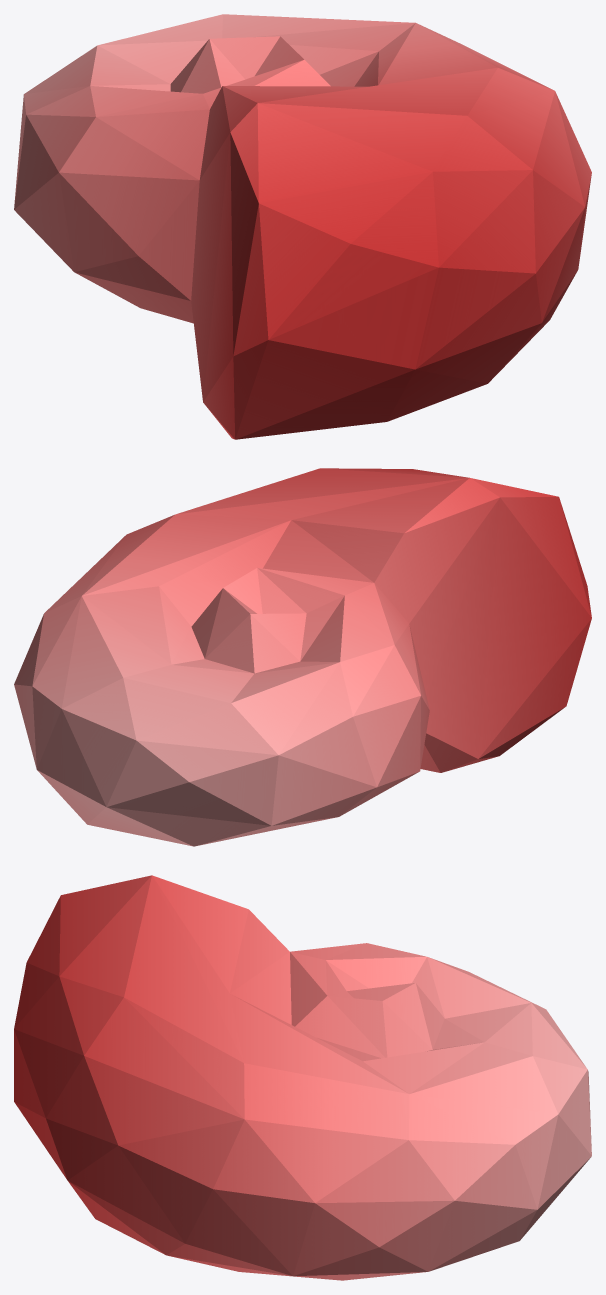
File: SM_Shell_7.fbx
3 views of the same model, one above another, from view 1: azimuth 30°, elevation 25°; view 2: azimuth 150°, elevation 25°; view 3: azimuth 270°, elevation 25° (orthographic). The views are drawn at different scales.
Parts seen in each view (by area): view 1: Shell_7; view 2: Shell_7; view 3: Shell_7.
Part boxes in pixels (x1=…): Shell_7: x1=14, y1=14, x2=591, y2=439; Shell_7: x1=14, y1=468, x2=591, y2=846; Shell_7: x1=14, y1=875, x2=591, y2=1280.
Bounding box in the file's own units: 25.9 × 17.37 × 31.85.
